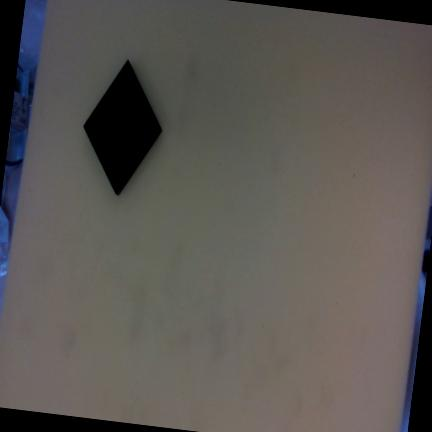tile: (61, 61, 183, 195)
